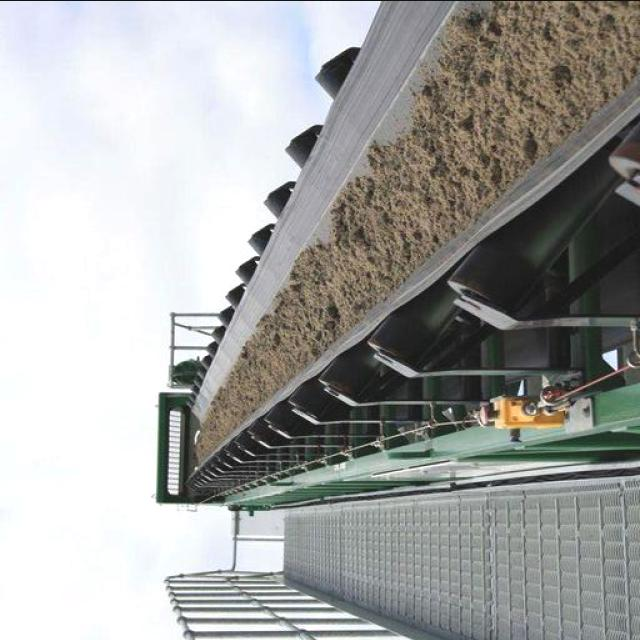conveyor: (193, 0, 640, 468)
